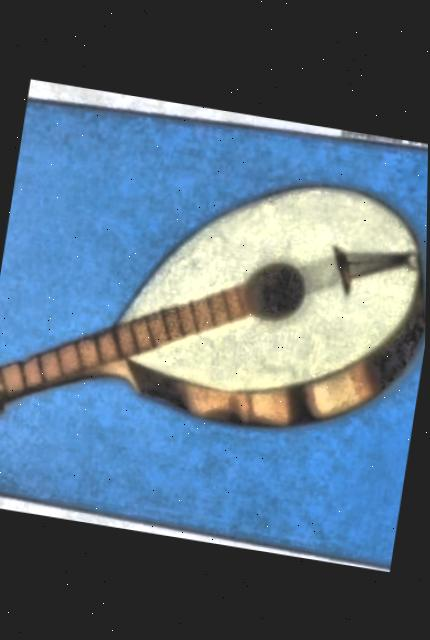El Bandolon: (0, 102, 428, 553)
